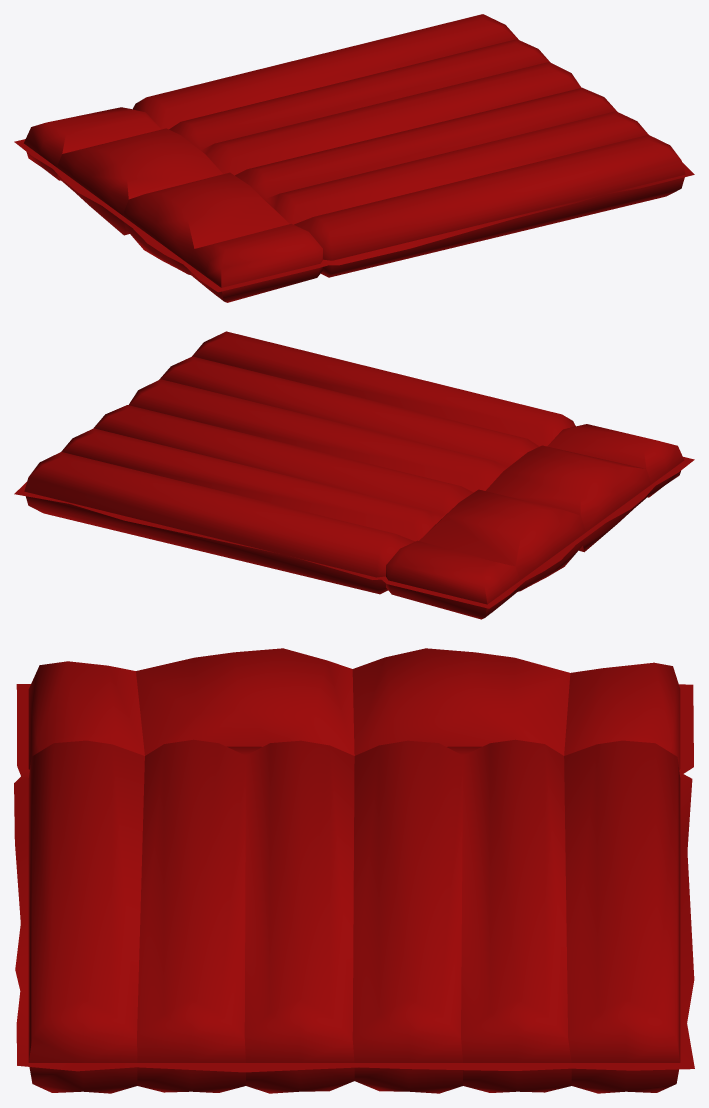
File: Mattress2.fbx
The picture shows the model from 3 angles, top to bottom: view 1: azimuth 30°, elevation 25°; view 2: azimuth 150°, elevation 25°; view 3: azimuth 270°, elevation 25°; orthographic projection. The views are drawn at different scales.
Visible parts, largest first — view 1: SM_Mattress_LOD0; view 2: SM_Mattress_LOD0; view 3: SM_Mattress_LOD0.
Boxes of the visible parts, left/top/right/bottom form: SM_Mattress_LOD0: left=14, top=14, right=694, bottom=302; SM_Mattress_LOD0: left=14, top=331, right=694, bottom=619; SM_Mattress_LOD0: left=14, top=648, right=694, bottom=1093.
Size of the model in its own units: 78.3 by 10.27 by 57.6.
